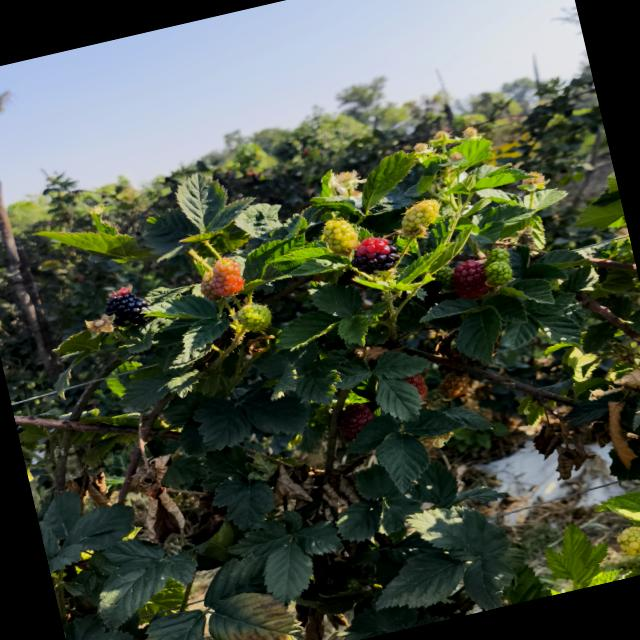maduro: (105, 290, 149, 327)
marron: (350, 237, 399, 273)
naranja: (451, 260, 489, 298), (338, 403, 375, 439), (210, 258, 244, 295), (438, 372, 469, 398), (403, 374, 427, 400), (200, 270, 218, 301)
verde: (401, 199, 439, 237), (322, 219, 358, 252), (236, 303, 271, 330), (485, 260, 512, 286), (485, 248, 509, 266)
